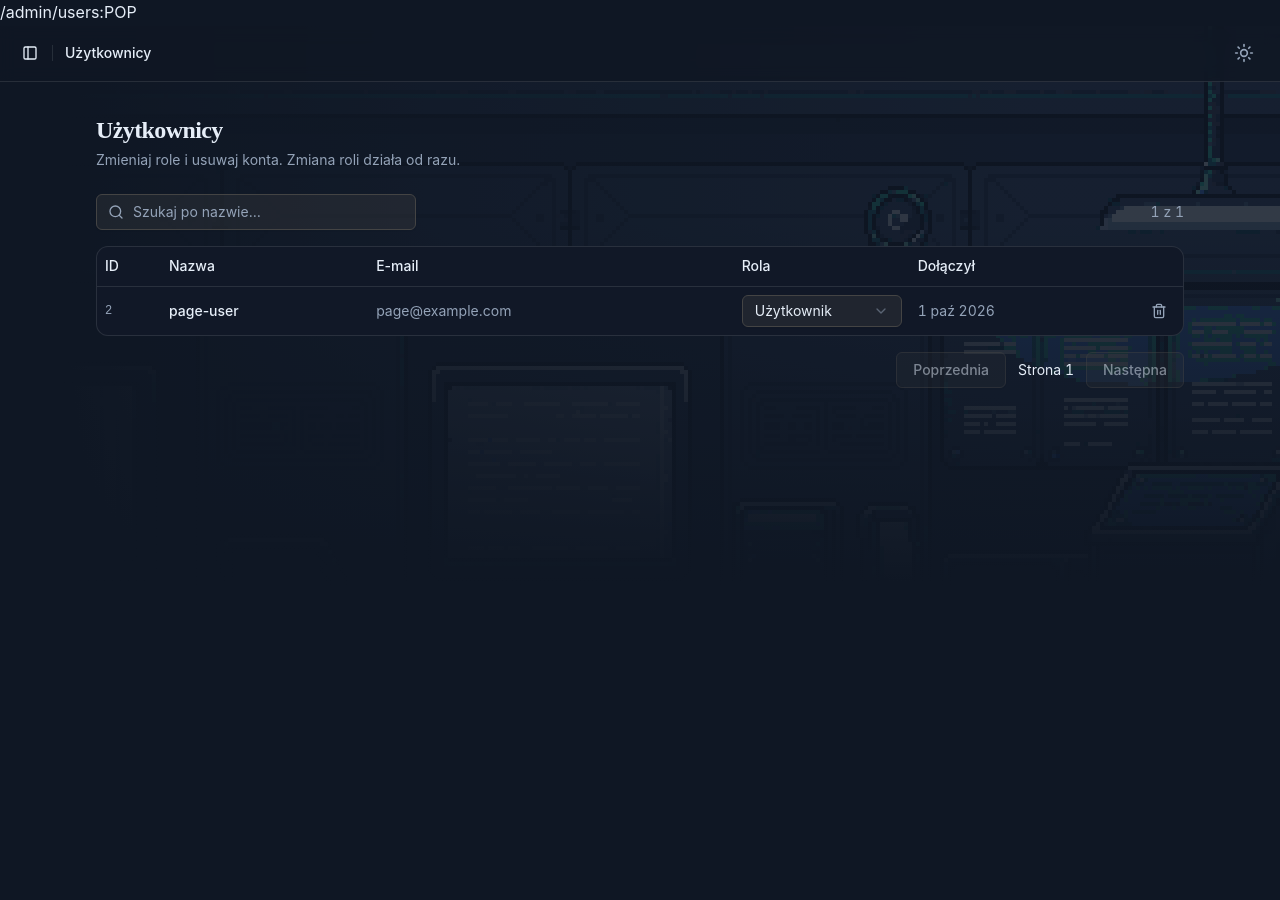
Scenario: admin dashboard › updates roles and deletes an account from the current page
Expected: the text "page-user" is shown, [161,287,368,335]
Click the dropdown named "Rola użytkownika page-user" at (822, 311), box [742,295,902,327]
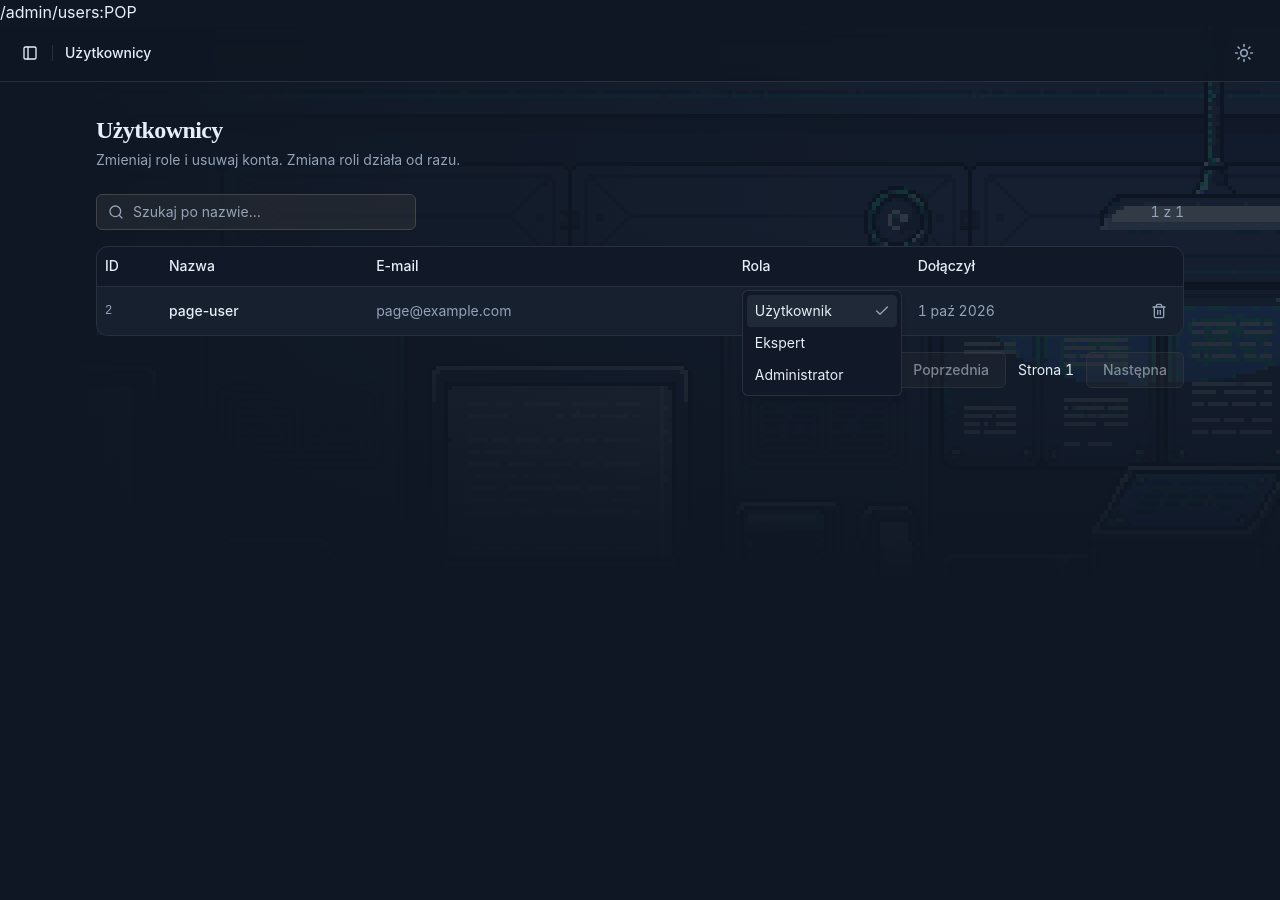
Click the option "Ekspert" at (780, 343), box [755,334,805,351]
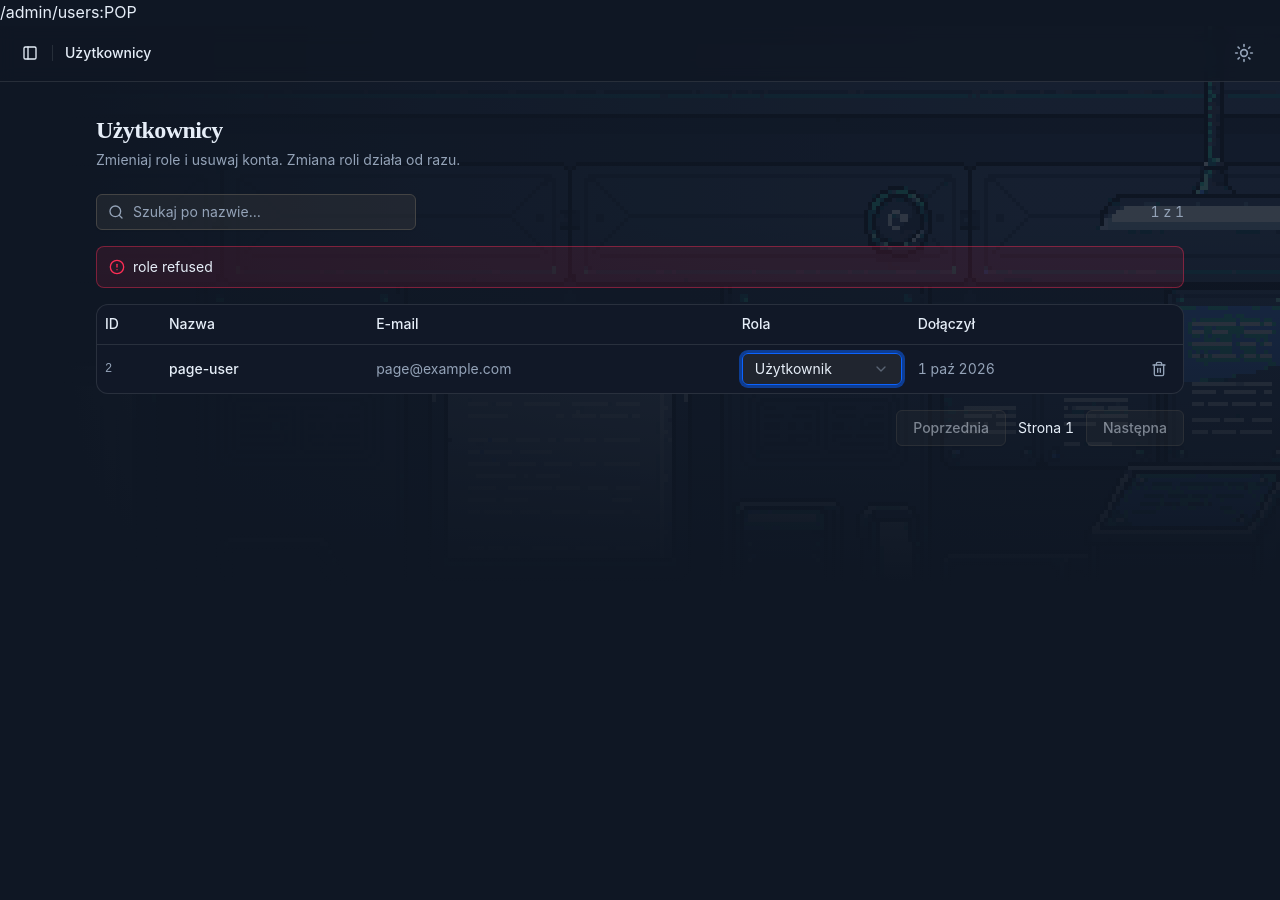
Expected: the text "role refused" is shown, [133,257,213,277]
Click the dropdown named "Rola użytkownika page-user" at (822, 369), box [742,353,902,385]
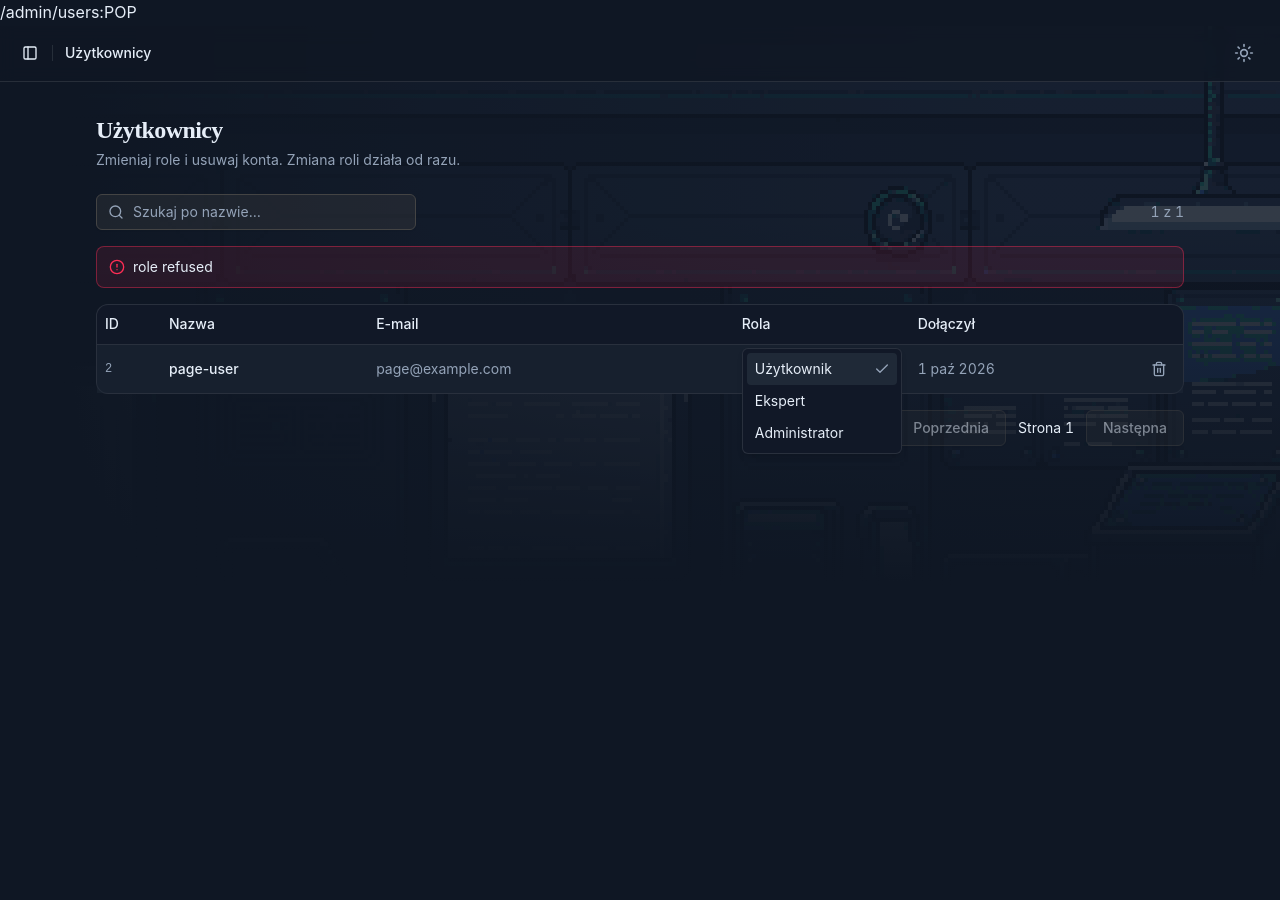
Click the option "Ekspert" at (780, 401), box [755,392,805,409]
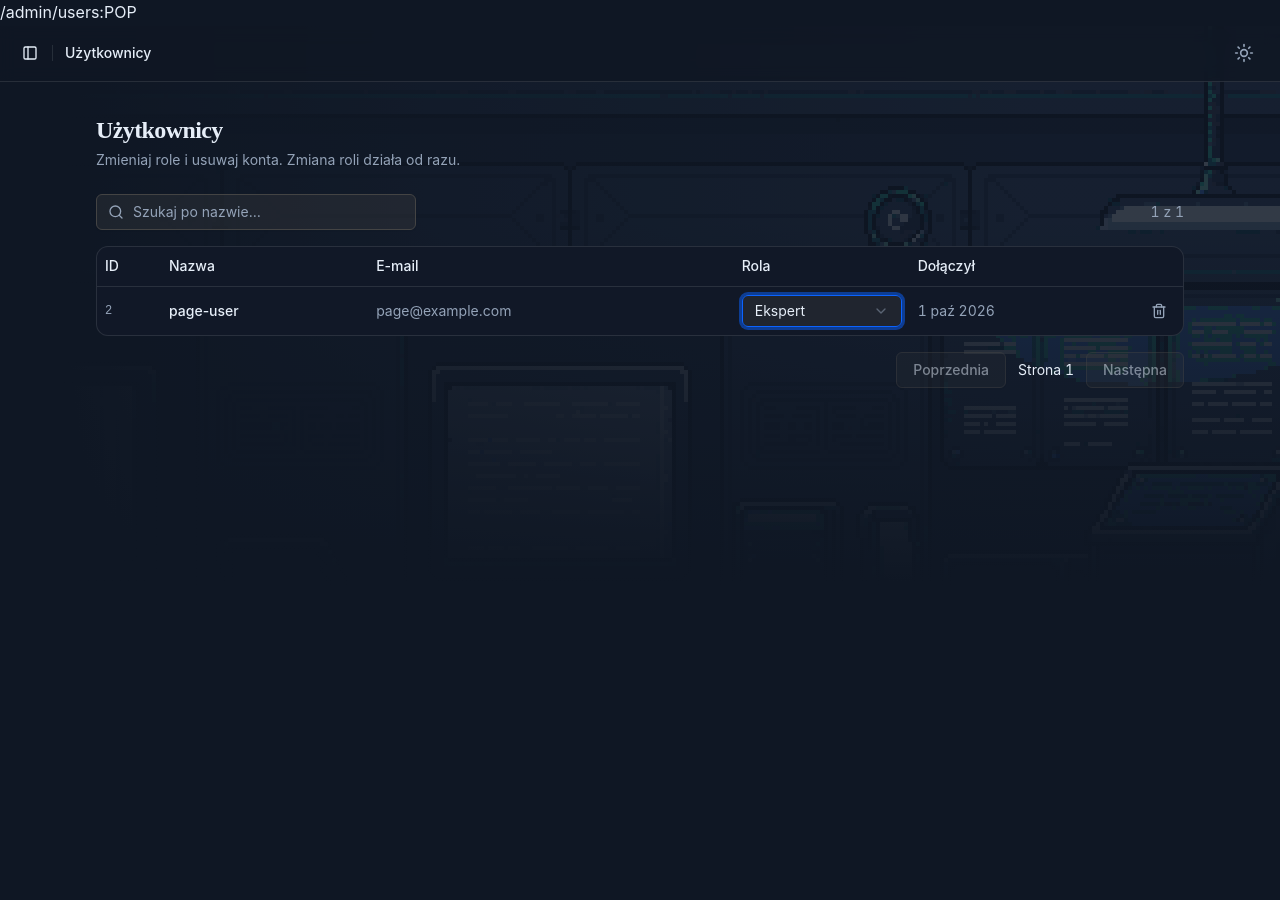
Click the button named "Usuń page-user" at (1159, 311), box [1143,295,1175,327]
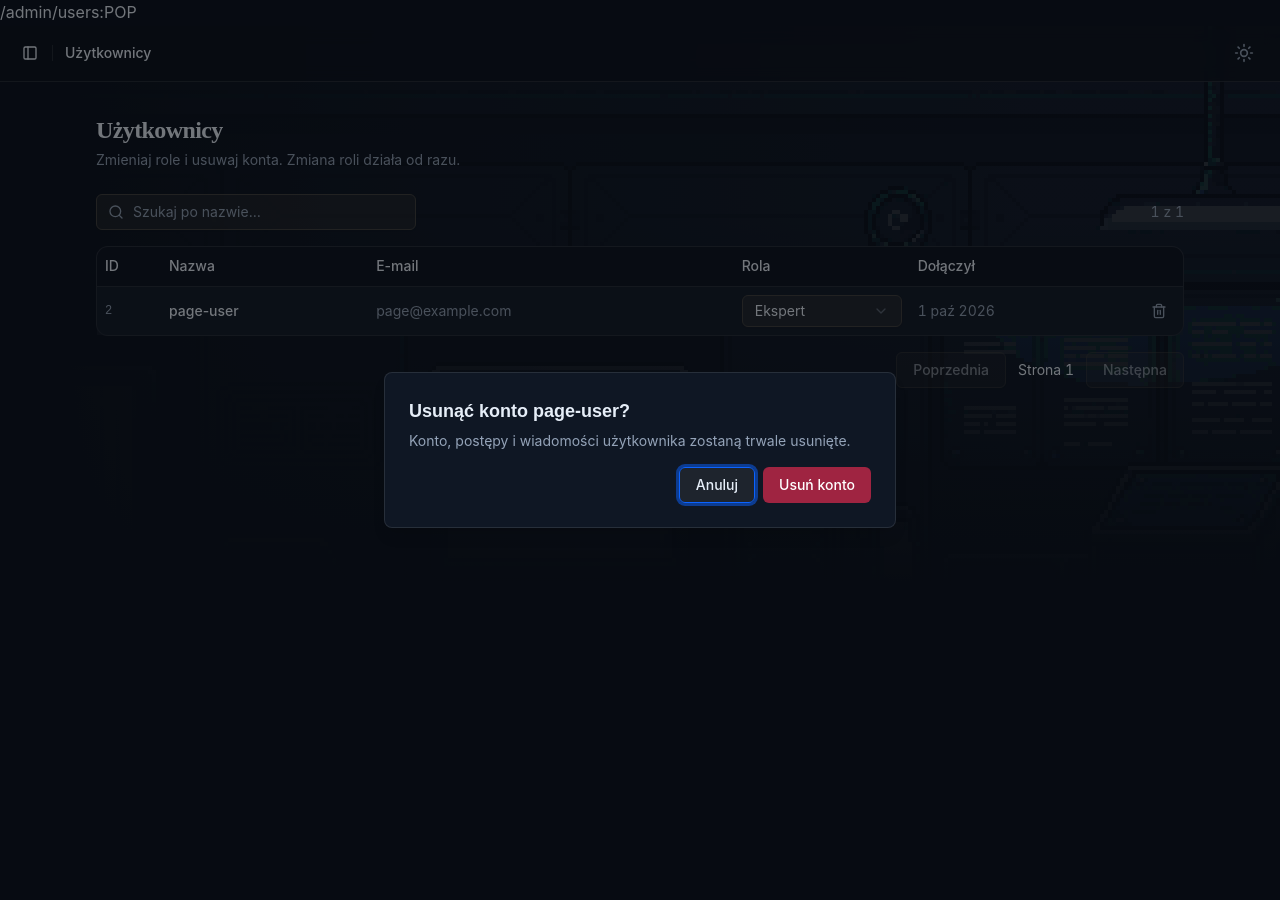
Click the button "Usuń konto" at (817, 485), box [763,467,871,503]
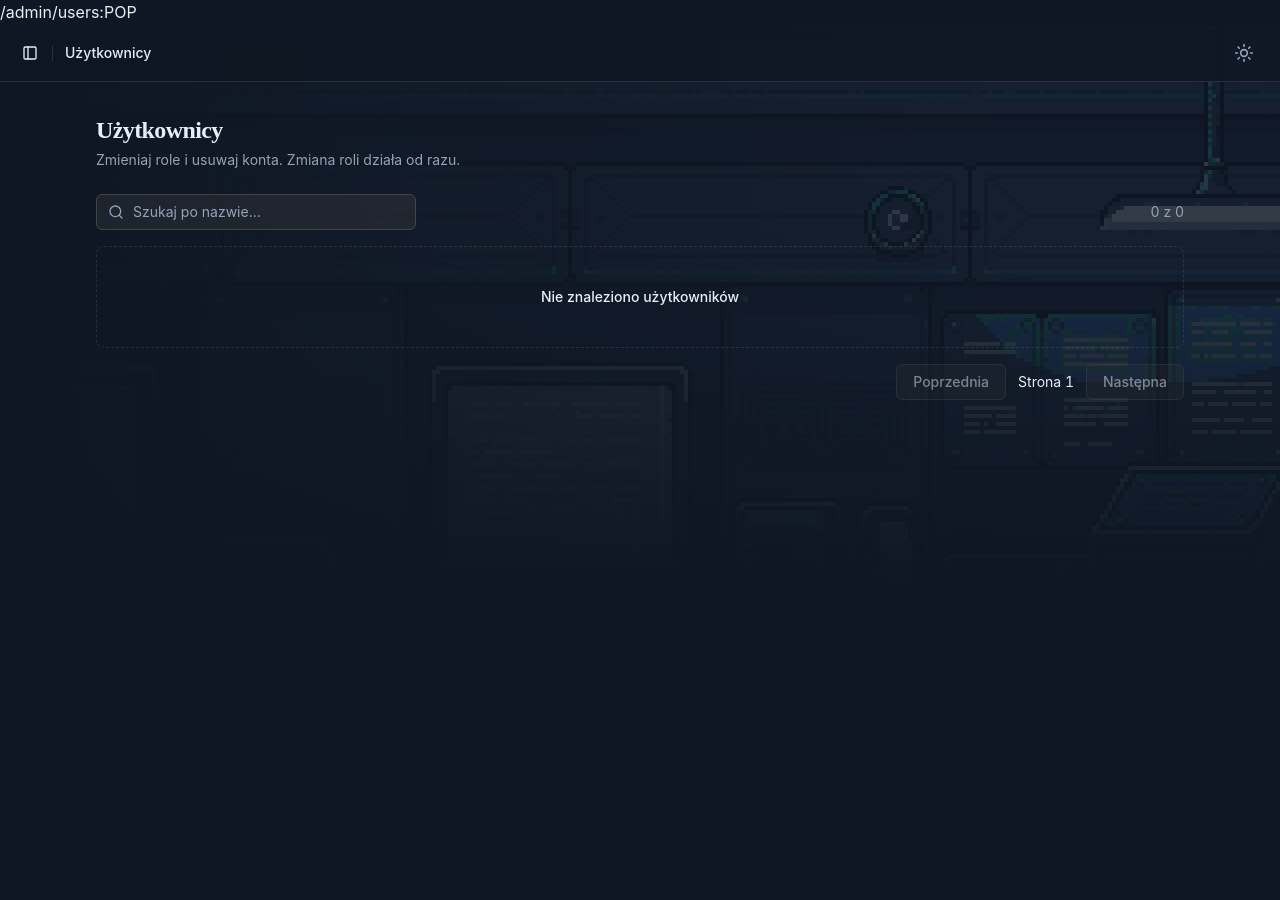
Expected: the text "Nie znaleziono użytkowników" is shown, [541,287,739,307]
